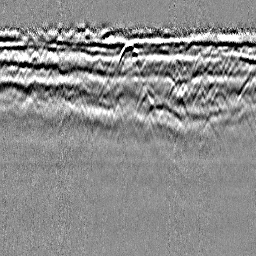cavity: (117, 41, 141, 68)
